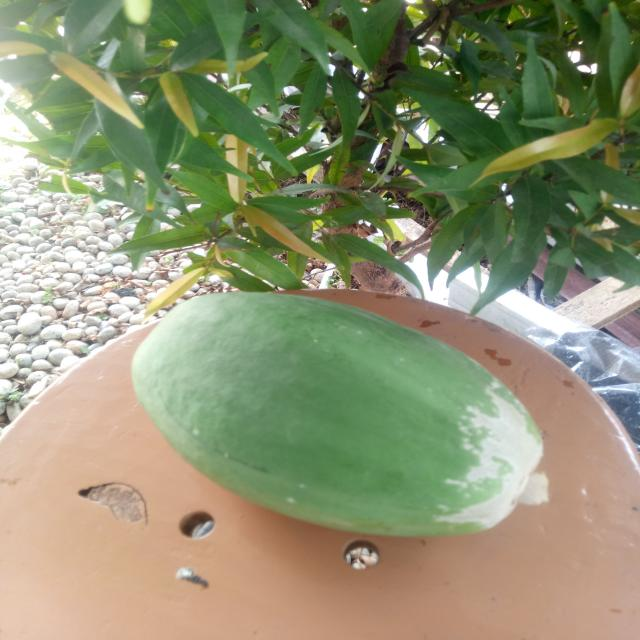Pepaya unrippen: (126, 280, 567, 547)
